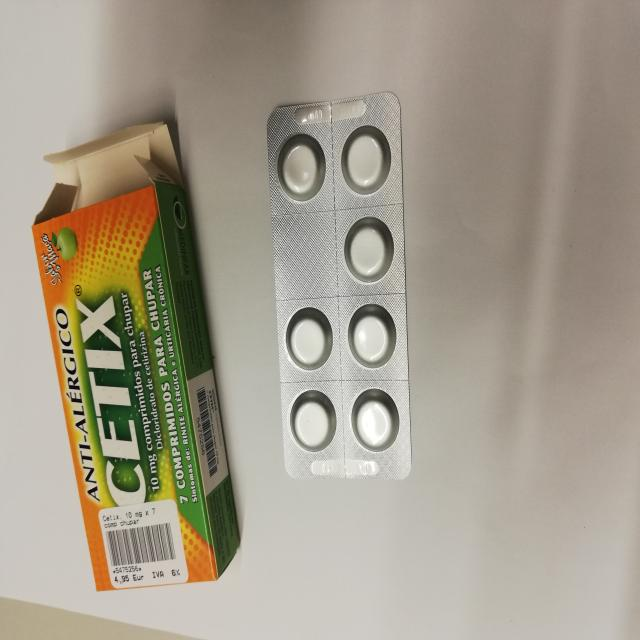Pill: (335, 113, 394, 204), (345, 300, 404, 378), (281, 387, 340, 465), (343, 387, 408, 457), (276, 305, 338, 376), (340, 211, 393, 285), (274, 137, 328, 200)
